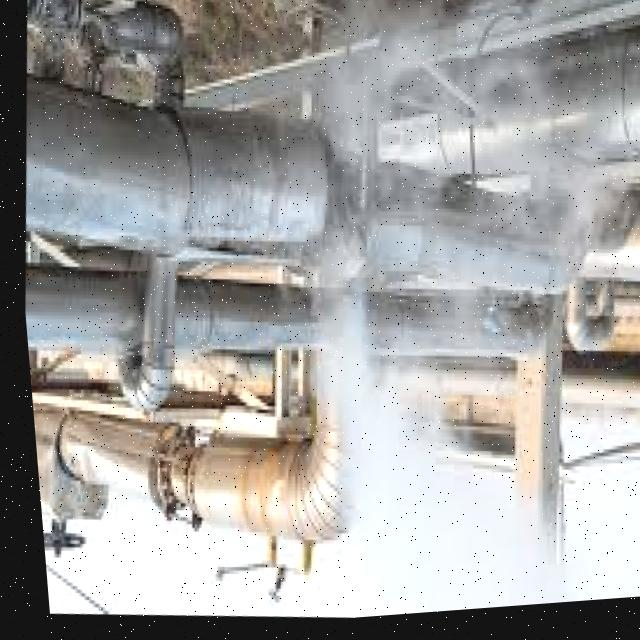corrosion: (211, 57, 531, 433)
